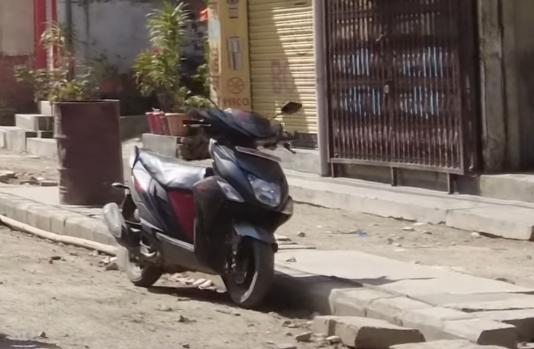scooter: (111, 88, 301, 308)
